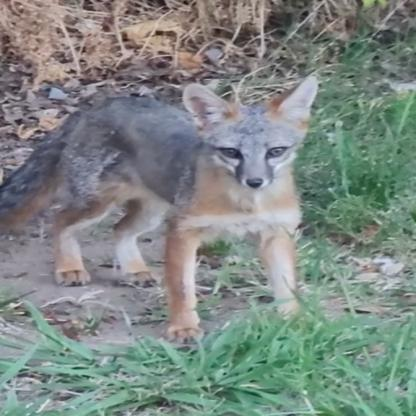zorro: (1, 68, 331, 352)
